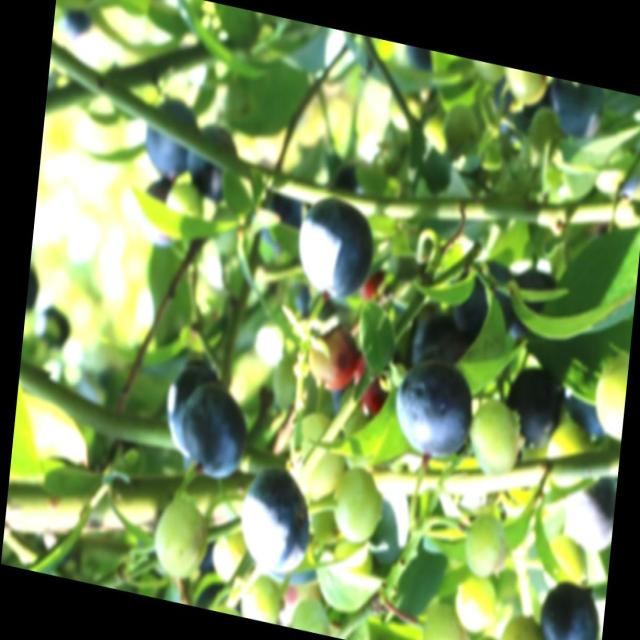blueberry: (291, 186, 380, 307), (389, 363, 476, 473), (236, 459, 316, 577), (176, 376, 248, 484), (444, 252, 514, 361), (502, 364, 570, 459), (557, 465, 617, 566), (144, 90, 206, 186), (503, 259, 559, 354), (541, 74, 609, 142), (190, 119, 242, 206), (537, 577, 602, 639)
blueberry-halfripe: (307, 320, 363, 395)
blueberry-unripe: (287, 406, 347, 506), (462, 394, 523, 482), (150, 496, 208, 581), (329, 463, 383, 546), (459, 506, 510, 585), (593, 343, 629, 441), (454, 566, 502, 636), (419, 596, 465, 640), (495, 606, 547, 639)
